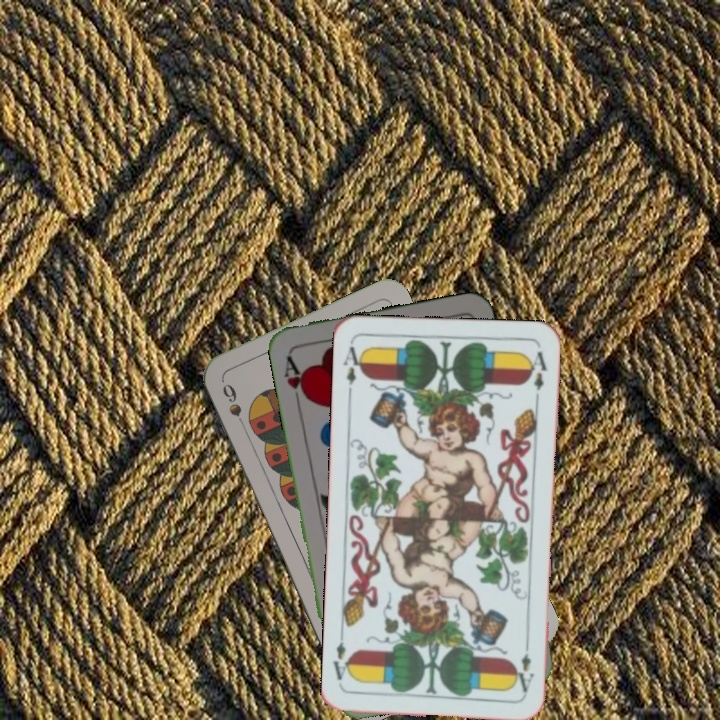EA: (339, 339, 367, 398), (514, 636, 537, 695)
HA: (280, 351, 312, 409)
S9: (218, 379, 248, 434)
